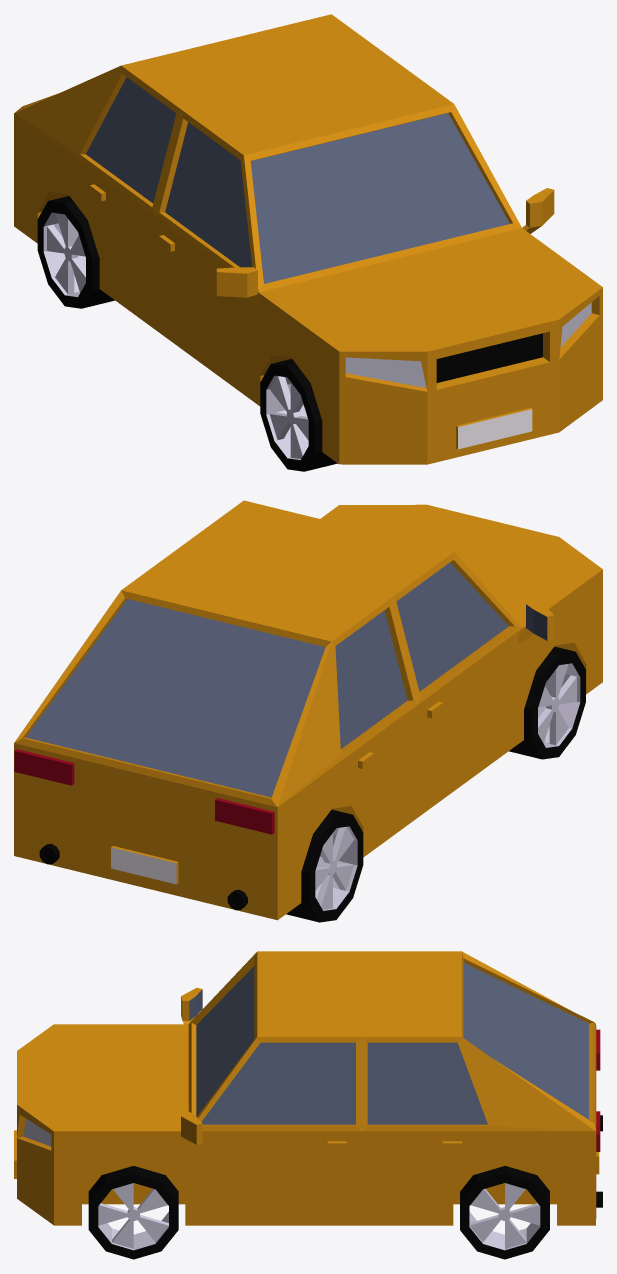
Rendered from Hatchback.glb.
The picture shows the model from 3 angles, top to bottom: view 1: azimuth 30°, elevation 25°; view 2: azimuth 150°, elevation 25°; view 3: azimuth 270°, elevation 25°; orthographic projection. The views are drawn at different scales.
Parts seen in each view (by area): view 1: Hatchback; view 2: Hatchback; view 3: Hatchback.
Part boxes in pixels (x1=…): Hatchback: x1=14, y1=14, x2=602, y2=471; Hatchback: x1=14, y1=500, x2=602, y2=922; Hatchback: x1=14, y1=951, x2=602, y2=1259.
Bounding box in the file's own units: 0.6168 × 0.4407 × 1.12.
